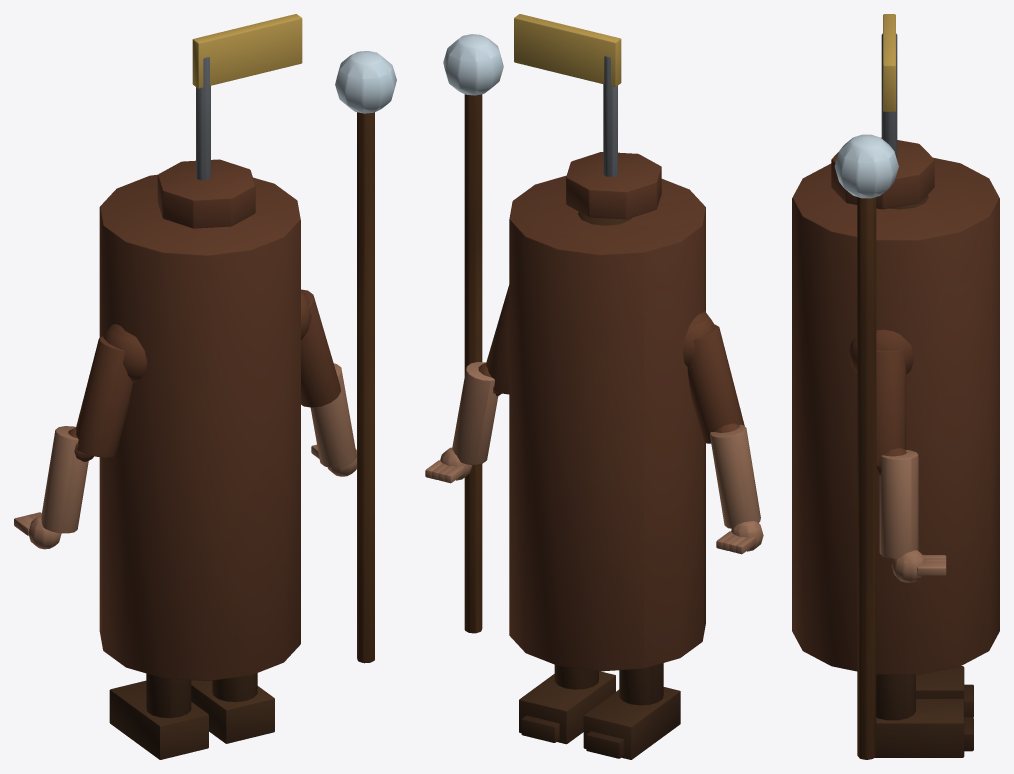
The model's file is unit_university_climate_dean.fbx.
3 renders of one model, left to right at view 1: azimuth 30°, elevation 25°; view 2: azimuth 150°, elevation 25°; view 3: azimuth 270°, elevation 25°, orthographic. The views are drawn at different scales.
Parts seen in each view (by area): view 1: unit_university_climate_dean; view 2: unit_university_climate_dean; view 3: unit_university_climate_dean.
Boxes of the visible parts, bbox=[...] form: unit_university_climate_dean: bbox=[14, 14, 396, 759]; unit_university_climate_dean: bbox=[425, 14, 763, 759]; unit_university_climate_dean: bbox=[792, 14, 999, 759].
Size of the model in its own units: 1.24 by 2.42 by 0.64.
